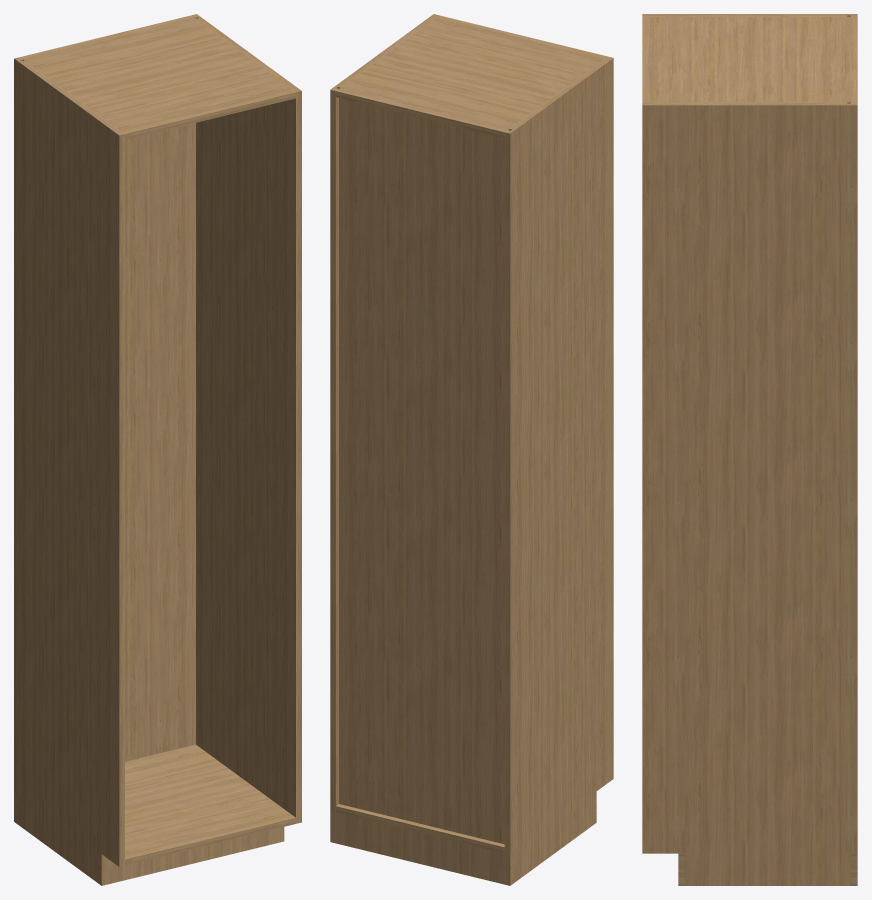
The picture shows the model from 3 angles, left to right: view 1: azimuth 30°, elevation 25°; view 2: azimuth 150°, elevation 25°; view 3: azimuth 270°, elevation 25°; orthographic projection. The views are drawn at different scales.
Parts seen in each view (by area): view 1: Geom3D.002; view 2: Geom3D.002; view 3: Geom3D.002.
Part boxes in pixels (x1,y1,x2,y2): Geom3D.002: (14, 14, 301, 885); Geom3D.002: (330, 14, 613, 885); Geom3D.002: (642, 14, 857, 885).
Size of the model in its own units: 0.602 by 2.4 by 0.6.
1 material, 1 textured.
